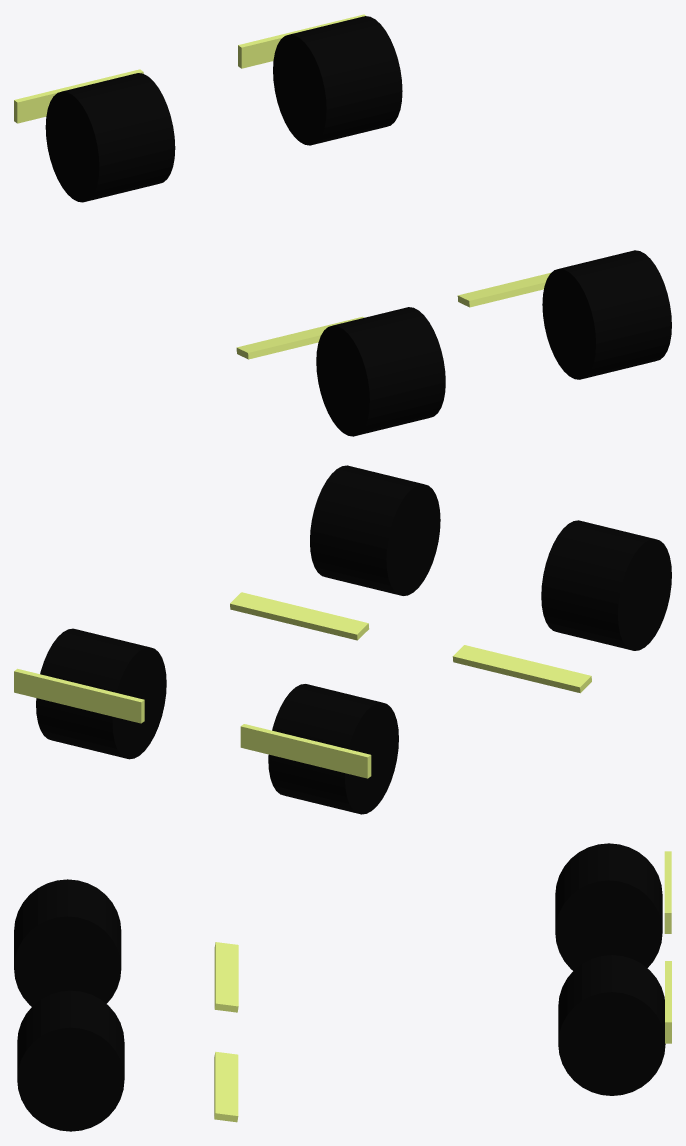
The model's file is Robot_Wheels.fbx.
3 renders of one model, top to bottom at view 1: azimuth 30°, elevation 25°; view 2: azimuth 150°, elevation 25°; view 3: azimuth 270°, elevation 25°, orthographic.
Visible parts, largest first — view 1: Wheel F/L, Wheel B/L, Wheel F/R, Wheel B/R, Blockierstab F/L, Blockierstab B/L, Blockierstab F/R, Blockierstab B/R; view 2: Wheel F/L, Wheel B/L, Wheel F/R, Wheel B/R, Blockierstab F/R, Blockierstab B/R, Blockierstab F/L, Blockierstab B/L; view 3: Wheel B/L, Wheel B/R, Wheel F/R, Wheel F/L, Blockierstab F/L, Blockierstab B/L, Blockierstab F/R, Blockierstab B/R.
Boxes of the visible parts, x1=… form: Wheel F/L: x1=316, y1=307, x2=445, y2=436; Wheel B/L: x1=542, y1=250, x2=671, y2=379; Wheel F/R: x1=45, y1=73, x2=175, y2=202; Wheel B/R: x1=273, y1=16, x2=402, y2=145; Blockierstab F/L: x1=236, y1=316, x2=364, y2=359; Blockierstab B/L: x1=457, y1=272, x2=550, y2=307; Blockierstab F/R: x1=14, y1=69, x2=143, y2=123; Blockierstab B/R: x1=238, y1=14, x2=365, y2=68; Wheel F/L: x1=541, y1=520, x2=671, y2=650; Wheel B/L: x1=310, y1=465, x2=440, y2=595; Wheel F/R: x1=268, y1=684, x2=398, y2=814; Wheel B/R: x1=36, y1=628, x2=166, y2=759; Blockierstab F/R: x1=240, y1=724, x2=371, y2=778; Blockierstab B/R: x1=14, y1=668, x2=144, y2=723; Blockierstab F/L: x1=452, y1=645, x2=591, y2=693; Blockierstab B/L: x1=230, y1=592, x2=369, y2=640; Wheel B/L: x1=17, y1=990, x2=124, y2=1131; Wheel B/R: x1=558, y1=955, x2=665, y2=1095; Wheel F/R: x1=555, y1=843, x2=662, y2=970; Wheel F/L: x1=14, y1=879, x2=121, y2=1006; Blockierstab F/L: x1=214, y1=942, x2=238, y2=1012; Blockierstab B/L: x1=214, y1=1051, x2=238, y2=1122; Blockierstab F/R: x1=664, y1=851, x2=671, y2=933; Blockierstab B/R: x1=665, y1=961, x2=671, y2=1043.
Bounding box in the file's own units: 129 × 48.87 × 208.
